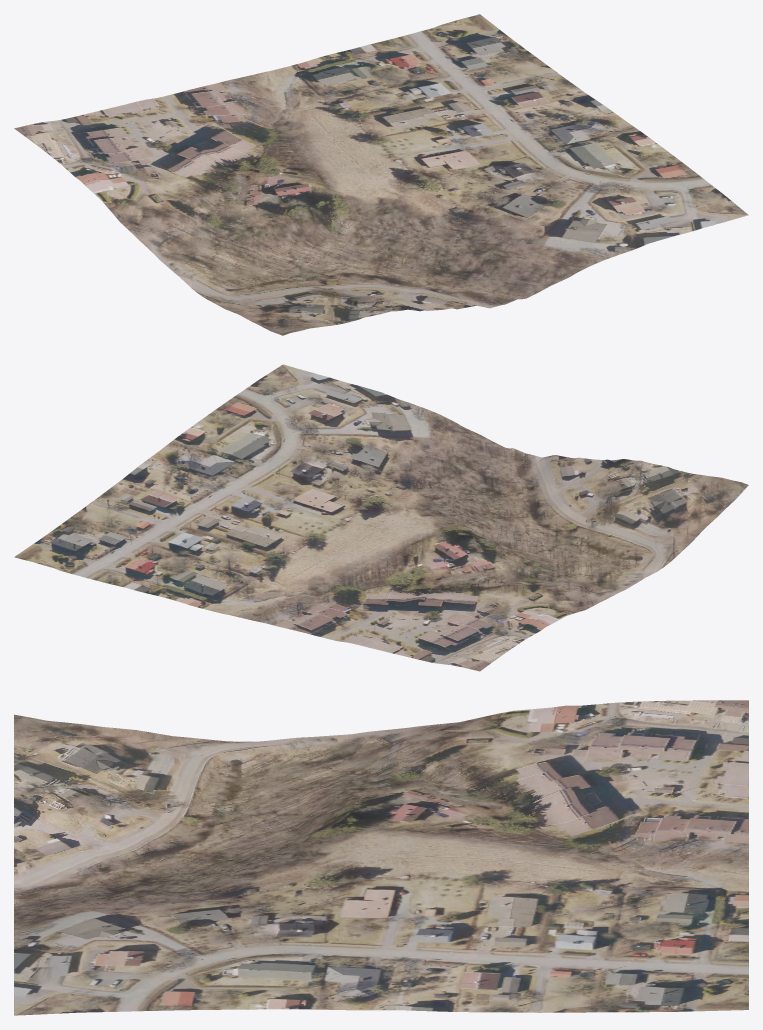
File: CM_Terrain_24492097_6817951.fbx
3 renders of one model, top to bottom at view 1: azimuth 30°, elevation 25°; view 2: azimuth 150°, elevation 25°; view 3: azimuth 270°, elevation 25°, orthographic. The views are drawn at different scales.
Visible parts, largest first — view 1: CM_Terrain_24492097_6817951_LOD0; view 2: CM_Terrain_24492097_6817951_LOD0; view 3: CM_Terrain_24492097_6817951_LOD0.
Part boxes in pixels (box(x1,y1,x2,y2)): CM_Terrain_24492097_6817951_LOD0: box(14, 14, 748, 335); CM_Terrain_24492097_6817951_LOD0: box(14, 364, 748, 671); CM_Terrain_24492097_6817951_LOD0: box(14, 700, 748, 1015).
Size of what is drawn, in the model's own units: 205 by 15.36 by 205.
